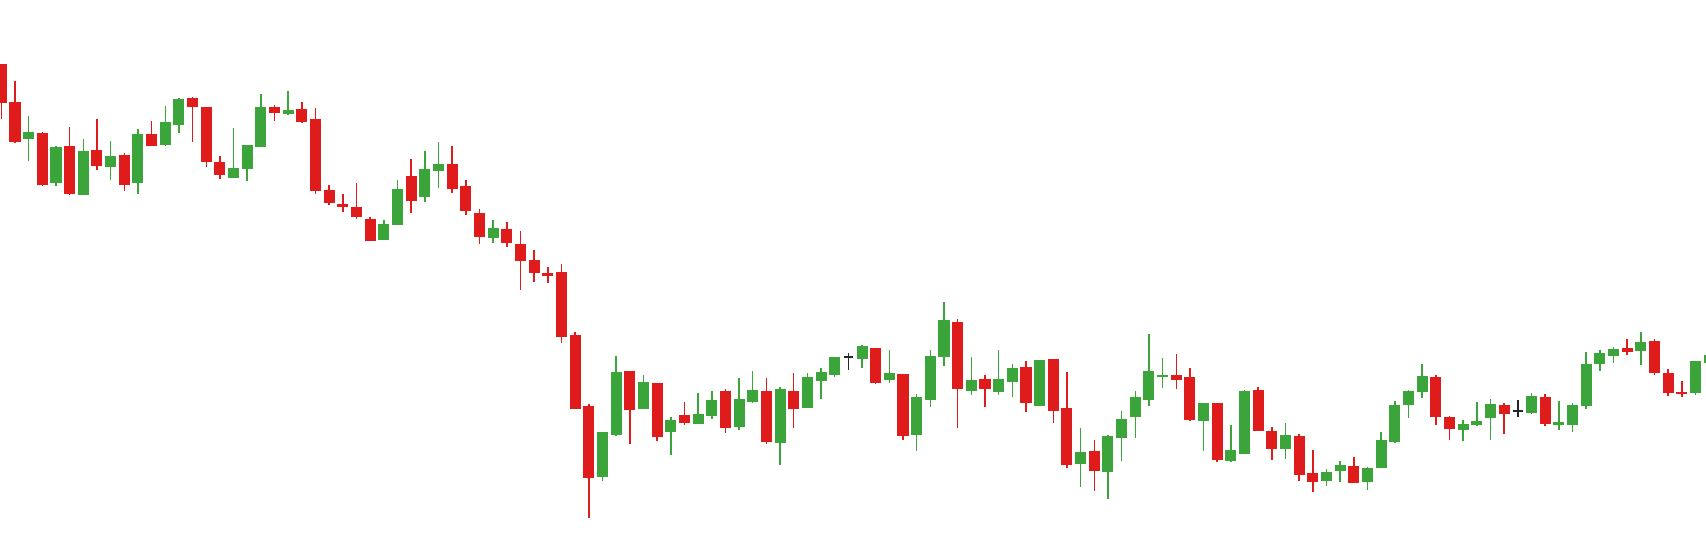buy: (894, 359, 1115, 506)
sell: (172, 95, 281, 148)
